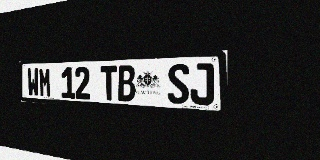1: (61, 67, 75, 99)
2: (75, 66, 90, 99)
B: (117, 65, 136, 102)
J: (190, 63, 214, 106)
M: (39, 67, 52, 98)
S: (167, 64, 189, 104)
T: (100, 66, 117, 101)
W: (27, 68, 39, 97)
